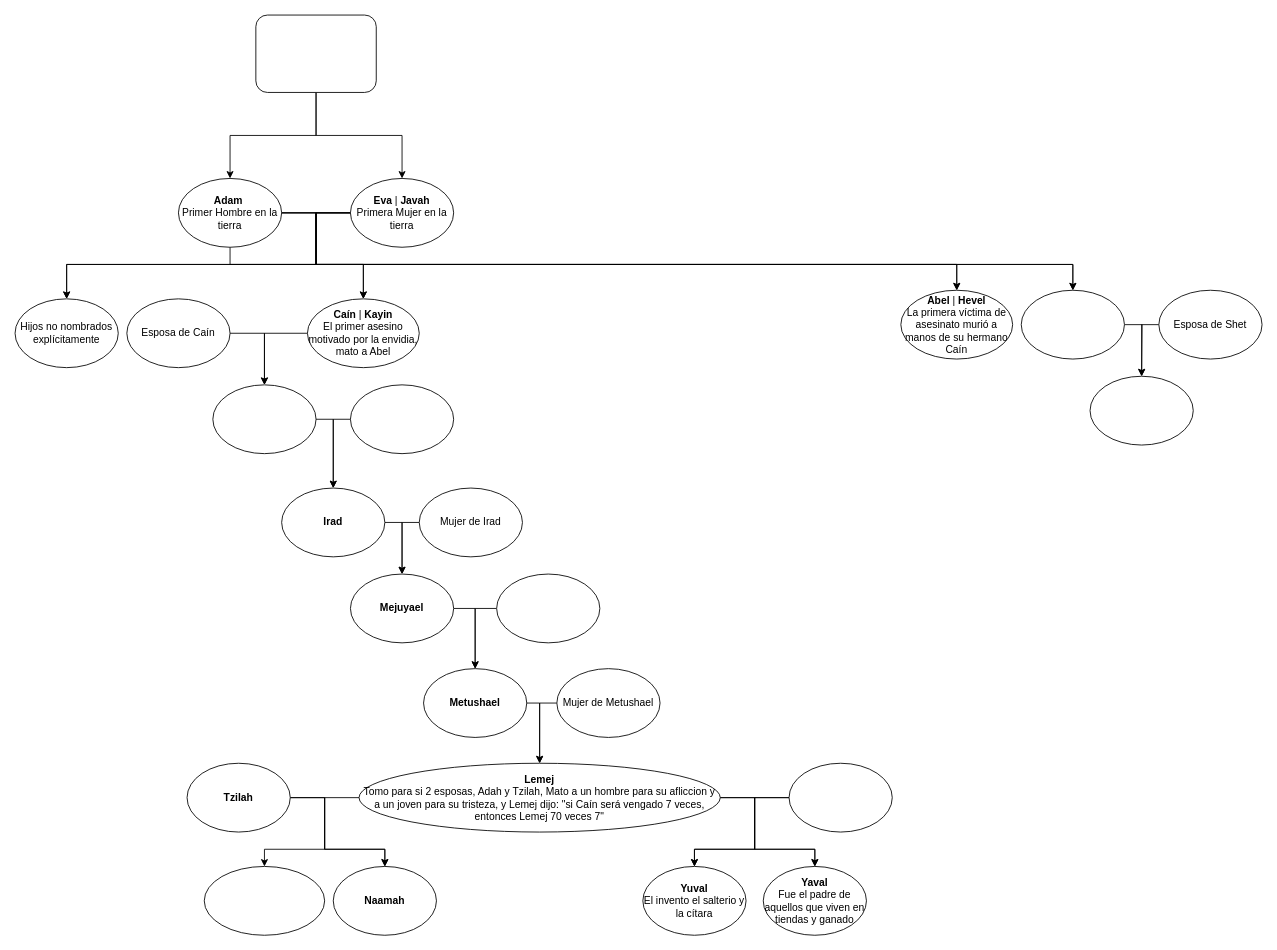
Some shapes in this 1277 by 950 pixel diagram are drawn without their labels. The centre of each missing label's shape, as x and y in pixels:
"Adah" goes at pixel 840 797.
"Enosh" goes at pixel 1141 410.
"Hanoj" goes at pixel 264 419.
"Mujer de Hanoj" goes at pixel 402 419.
"Mujer de Mejuyael" goes at pixel 548 608.
"Shet (otorgado)" goes at pixel 1072 324.
"Tuval-Kayin Quien forjaba todo tipo de herramientas de bronce y de hierro" goes at pixel 264 900.
"Yahweh, Rafa Elohim, Shaddai Jireh, Adonai" goes at pixel 315 53.
